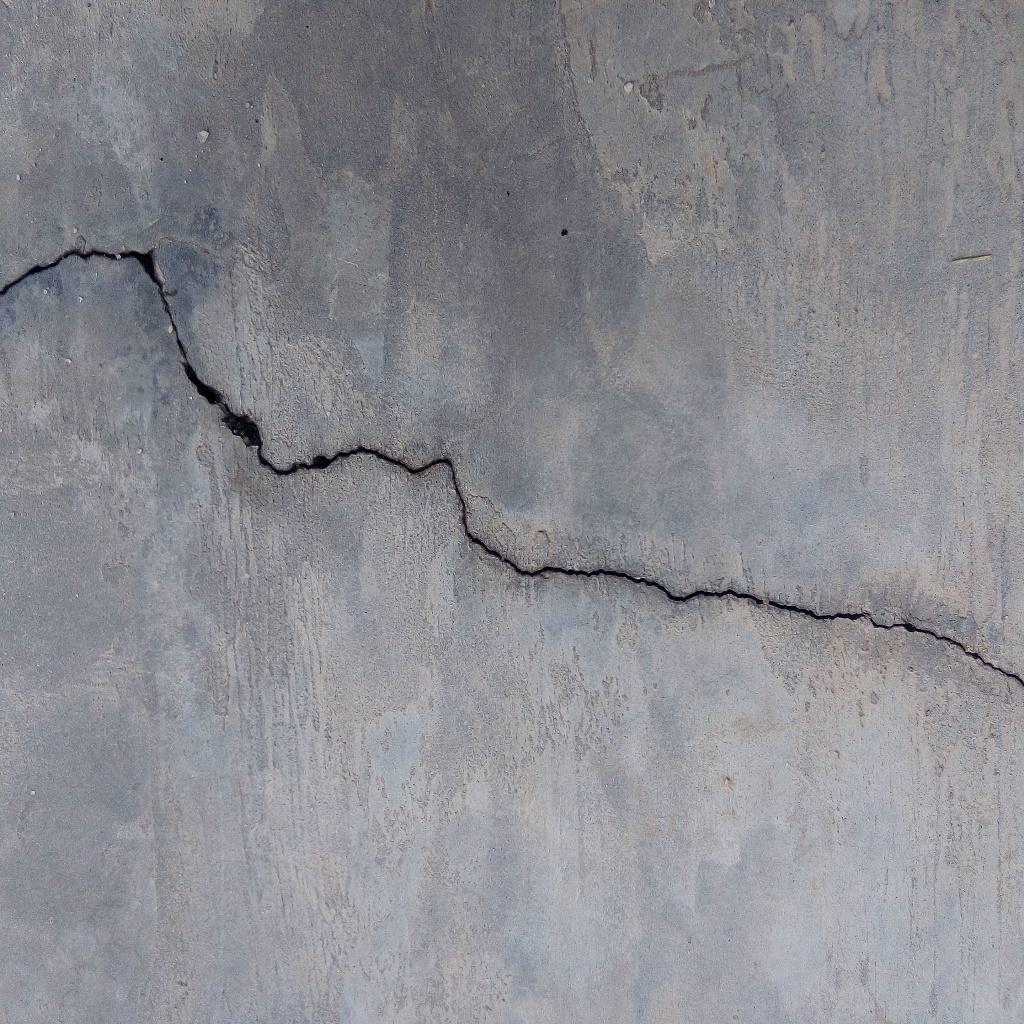Crack: (1, 248, 1024, 688)
